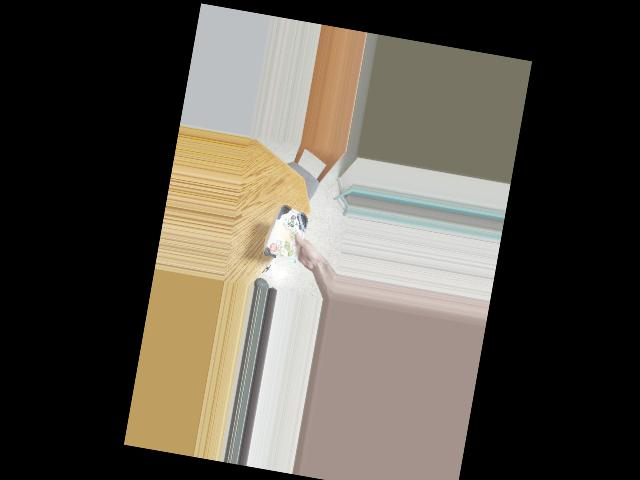cheese: (264, 209, 314, 255)
